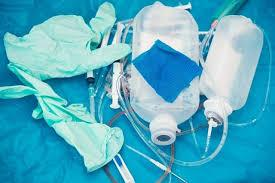Iv_Bottle: (200, 15, 262, 121), (129, 64, 198, 144)
